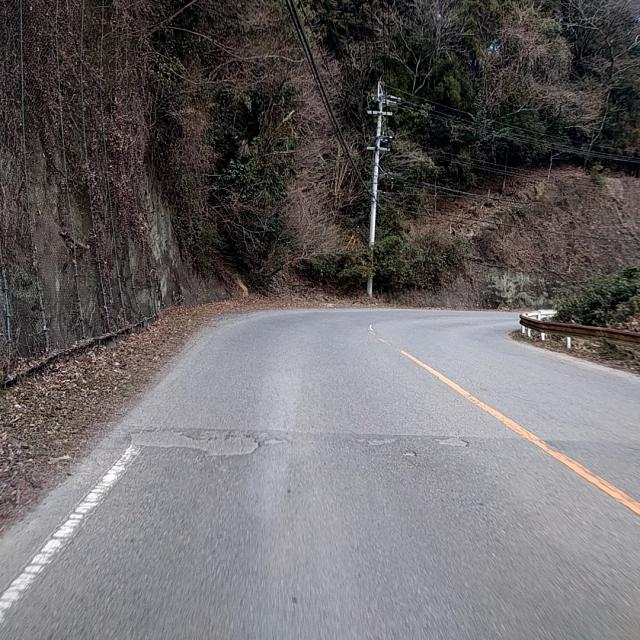pothole: (154, 411, 492, 470)
